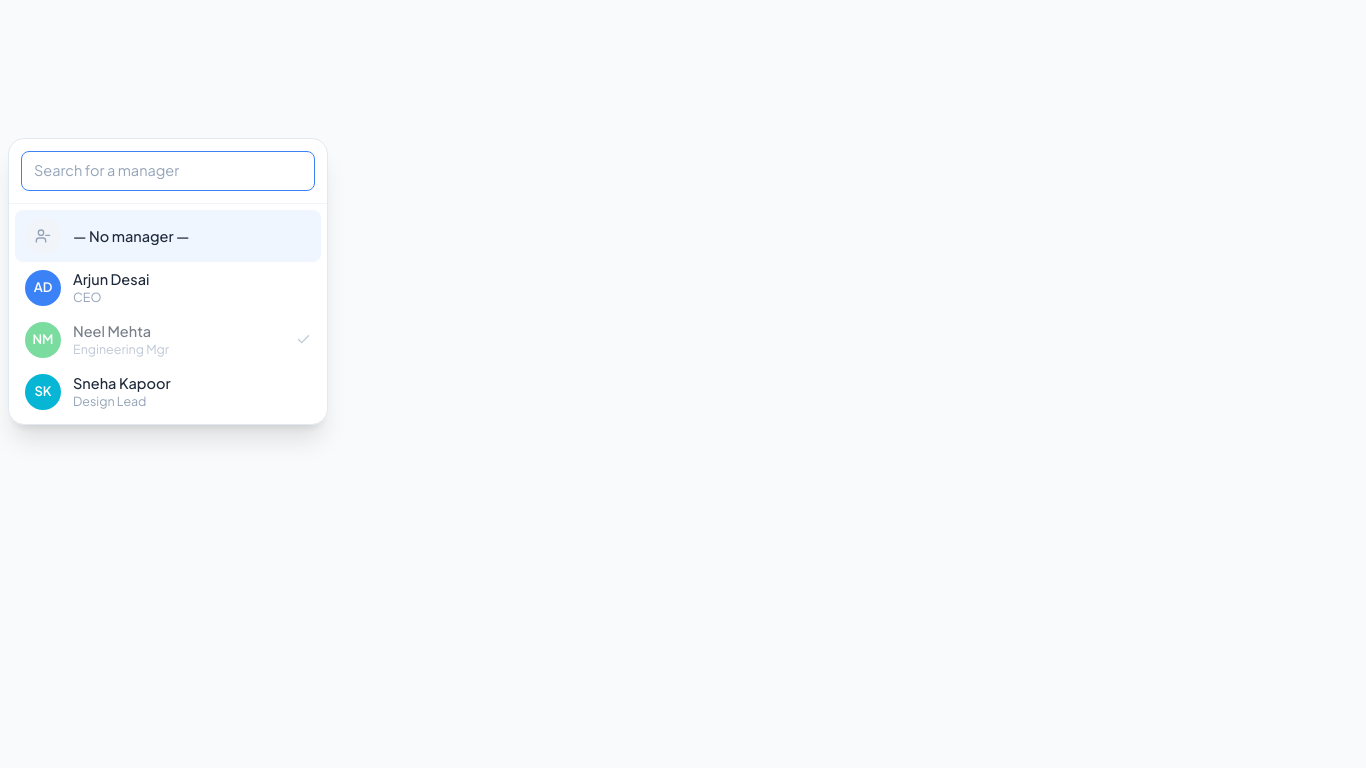
ManagerPicker › filters as you type
The image size is (1366, 768).
Type "sneha" into the dropdown with placeholder "Search for a manager" at (168, 171), box [21,151,315,191]
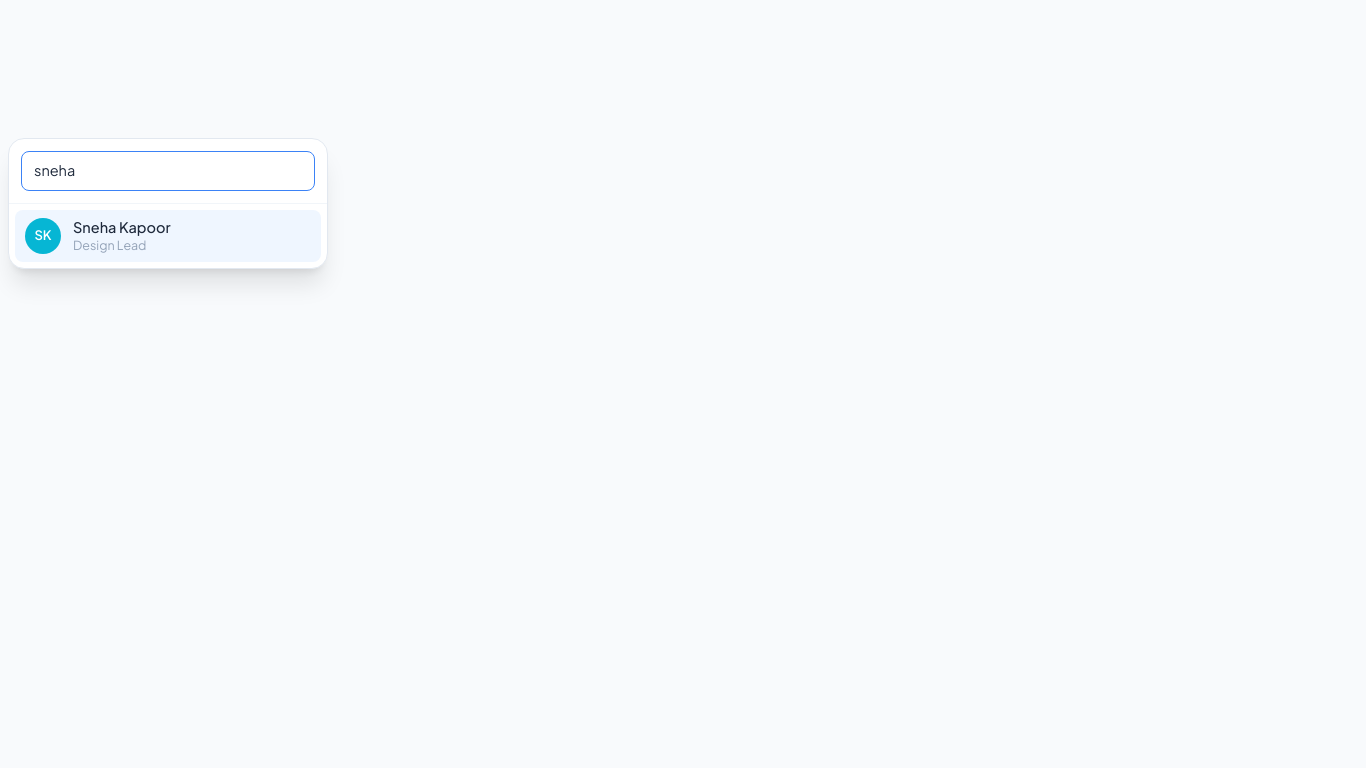
Expected: the option "SK Sneha Kapoor Design Lead" is shown, [15,210,321,262]
Expected: the option "Arjun Desai" is gone
